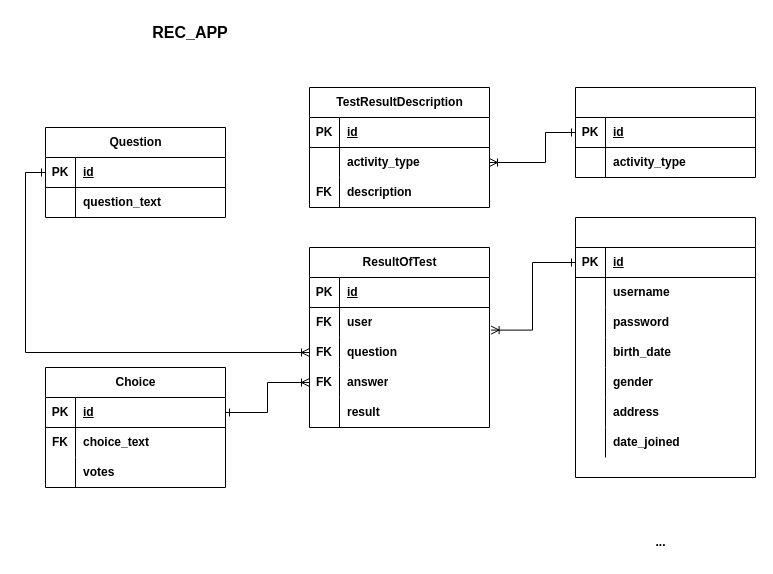
This 773x574 diagram has some shape labels left out. The box of each missing label's shape, as (x1, y1, x2, y2) in pixels:
ActivityTypes: (574, 86, 756, 178)
Profile: (574, 216, 756, 478)
